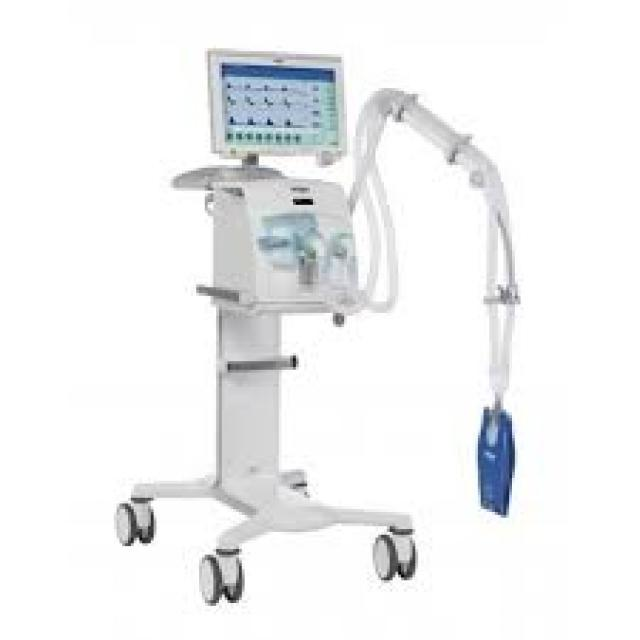ventilator: (196, 47, 540, 605)
